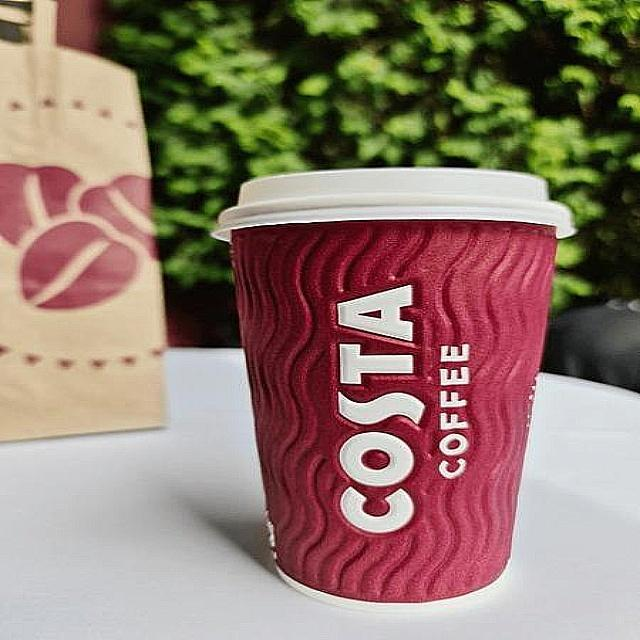paper_cup: (211, 160, 599, 620)
